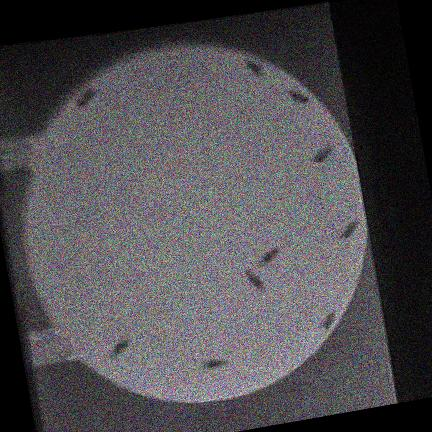fly: (245, 269, 266, 290), (258, 246, 279, 266), (76, 87, 97, 106), (110, 338, 129, 356), (340, 220, 359, 238), (314, 145, 333, 162), (201, 357, 227, 369), (247, 59, 265, 76), (290, 88, 310, 102), (322, 311, 336, 329)
